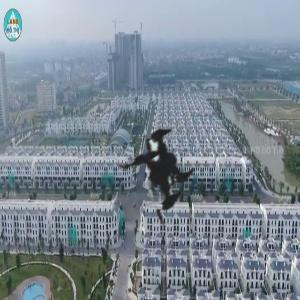drone: (25, 26, 295, 296)
